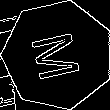M_E: (27, 27, 88, 83)
